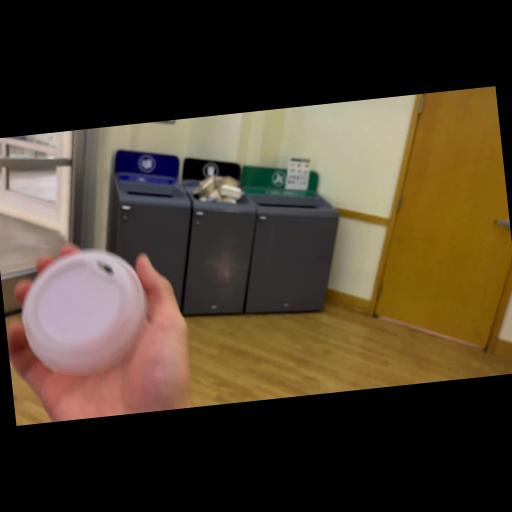lp_cup_lids: (14, 241, 158, 383)
